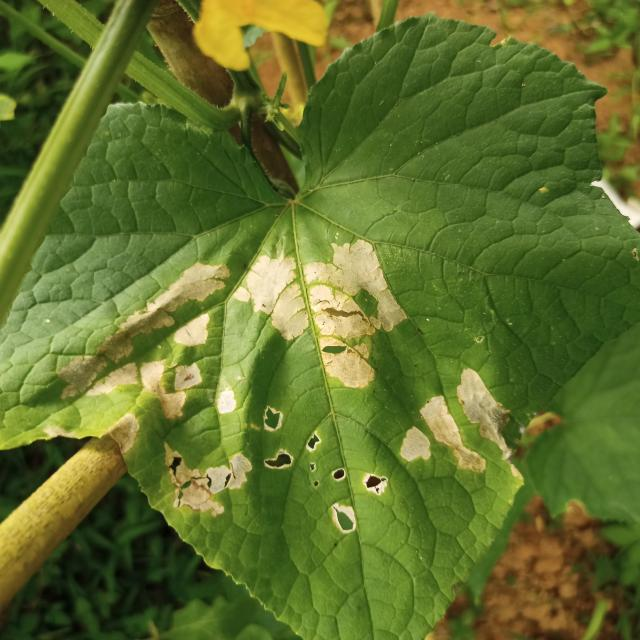disease_cucumber: (58, 240, 520, 533)
